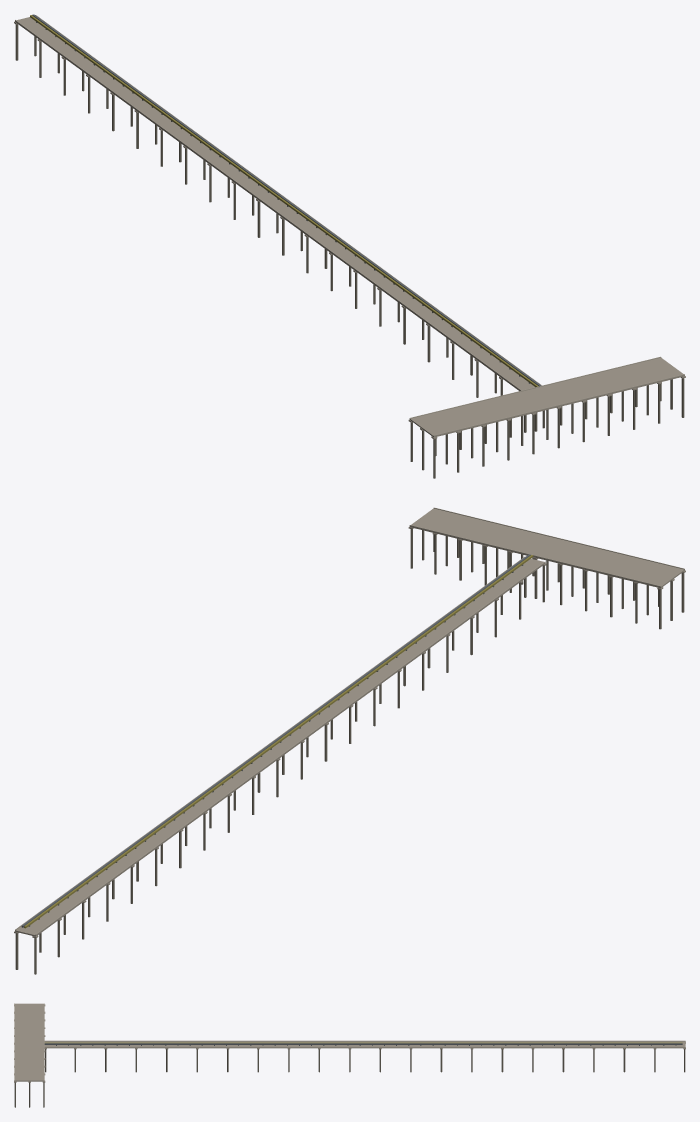
The model's file is tanker_jetty.glb.
The picture shows the model from 3 angles, top to bottom: view 1: azimuth 30°, elevation 25°; view 2: azimuth 150°, elevation 25°; view 3: azimuth 270°, elevation 25°; orthographic projection. The views are drawn at different scales.
Parts seen in each view (by area): view 1: LOD0; view 2: LOD0; view 3: LOD0.
Part boxes in pixels (box(x1,y1,x2,y2)): LOD0: box(14, 14, 685, 478); LOD0: box(14, 507, 685, 974); LOD0: box(14, 1003, 685, 1107).
Size of what is drawn, in the model's own units: 121 by 19.8 by 443.
